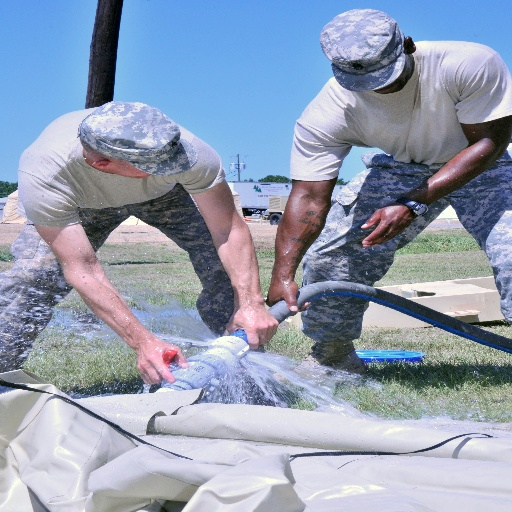hand: (355, 197, 419, 249), (220, 300, 281, 351), (126, 338, 174, 387), (264, 278, 311, 315)
